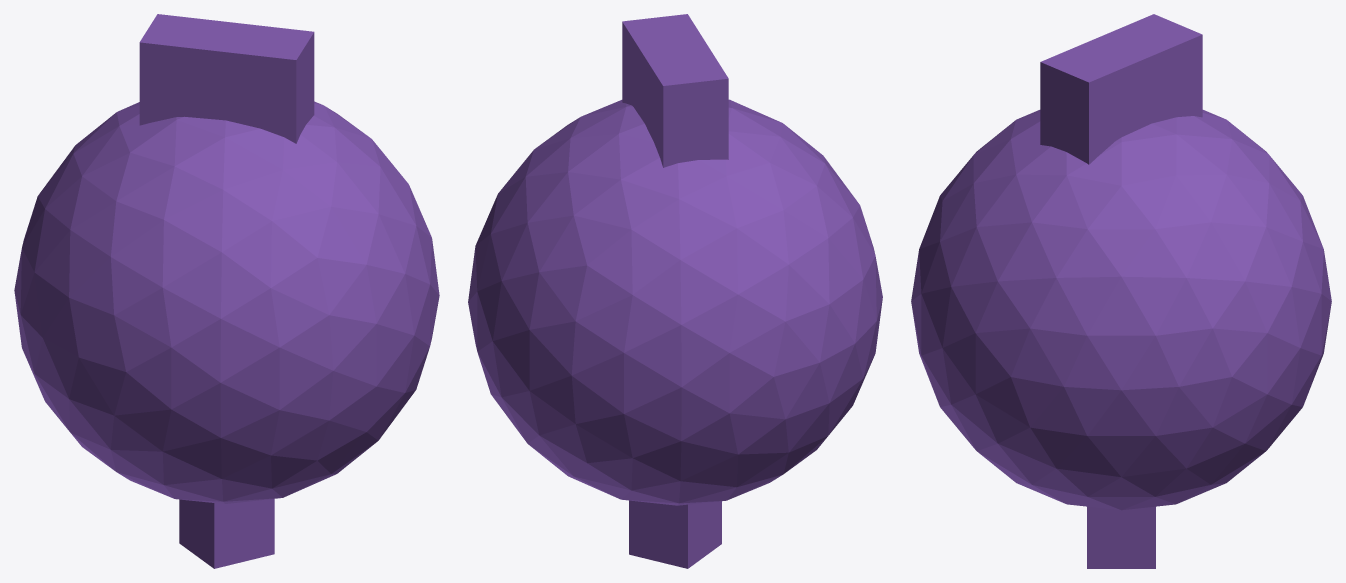
File: love_015.glb
3 renders of one model, left to right at view 1: azimuth 30°, elevation 25°; view 2: azimuth 150°, elevation 25°; view 3: azimuth 270°, elevation 25°, orthographic. The views are drawn at different scales.
Visible parts, largest first — view 1: world; view 2: world; view 3: world.
Part boxes in pixels (x1,y1,x2,y2): world: [14, 14, 439, 568]; world: [468, 14, 882, 568]; world: [911, 14, 1331, 568].
Size of the model in its own units: 1.1 by 1.46 by 1.1.
